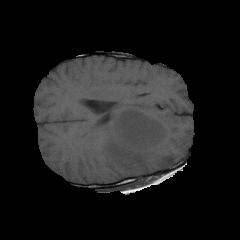glioma: (97, 101, 180, 173)
